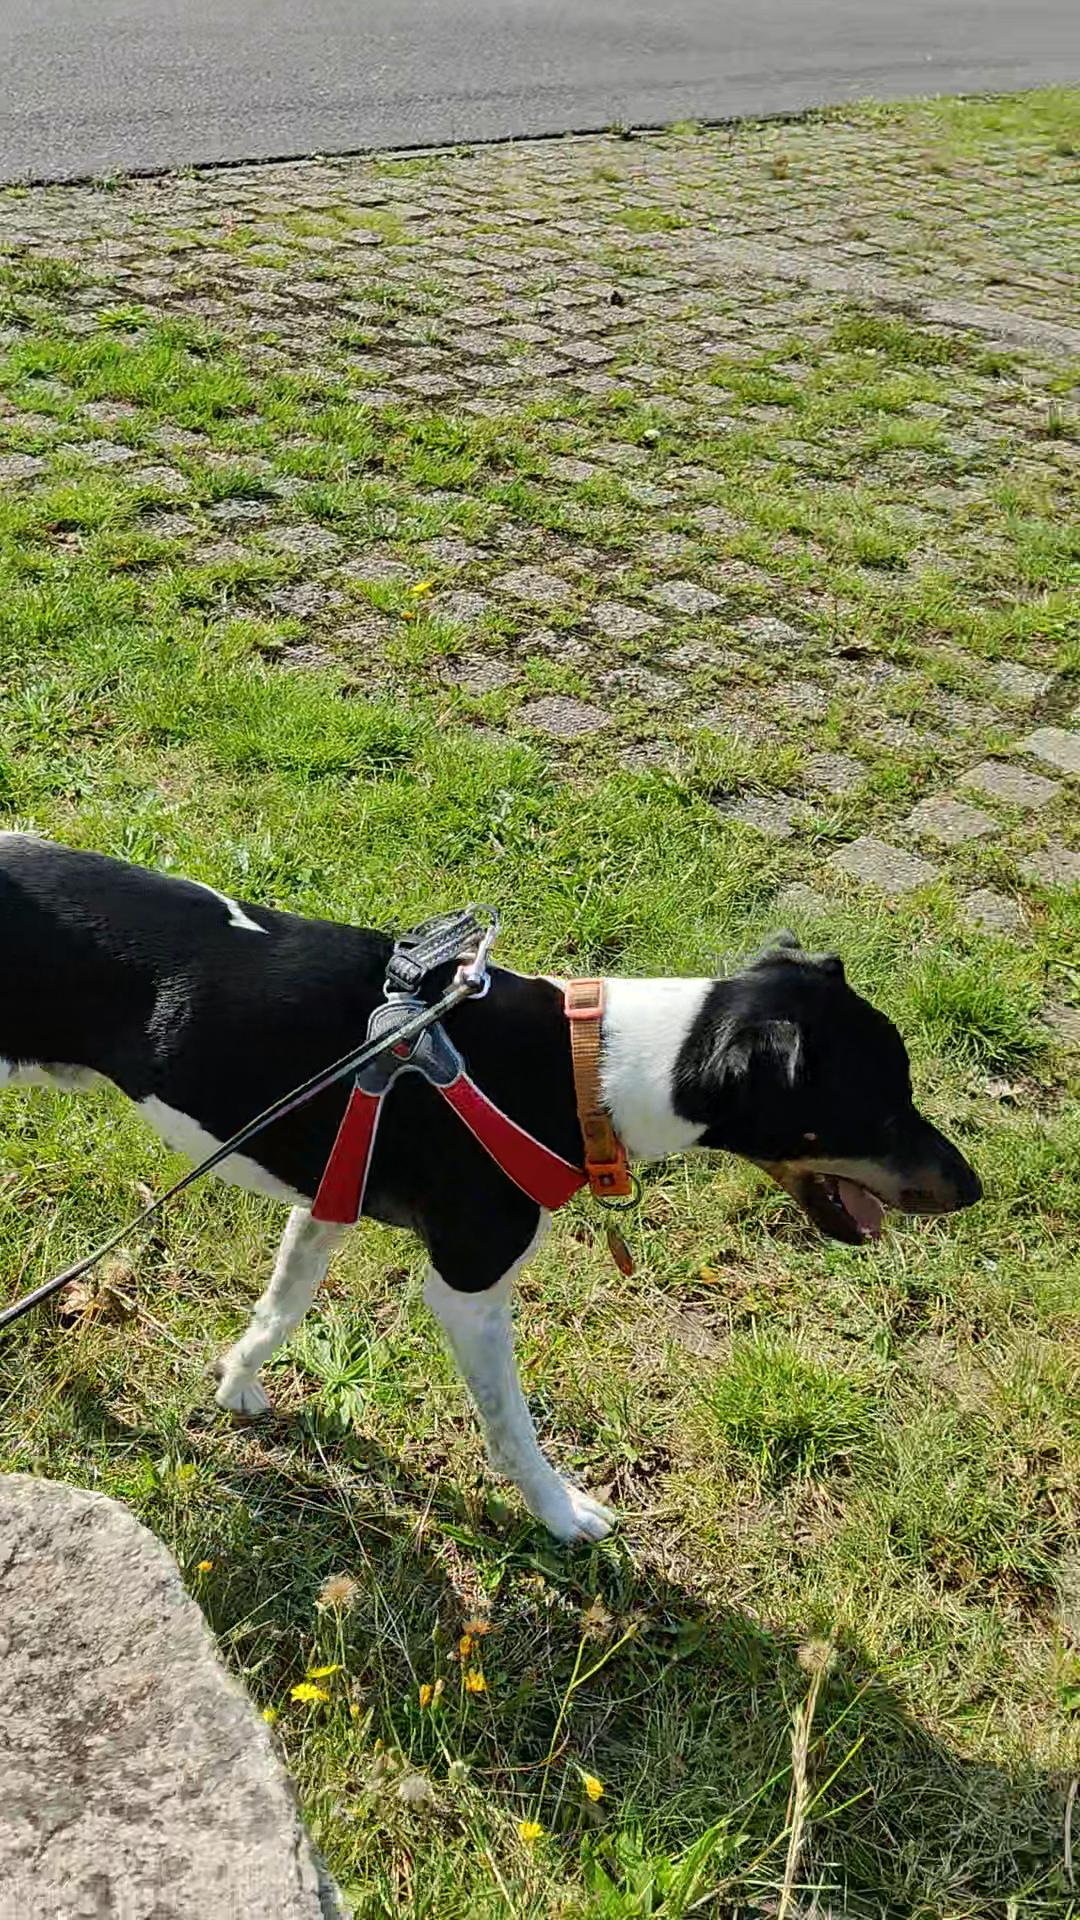Dog: (0, 829, 1011, 1549)
